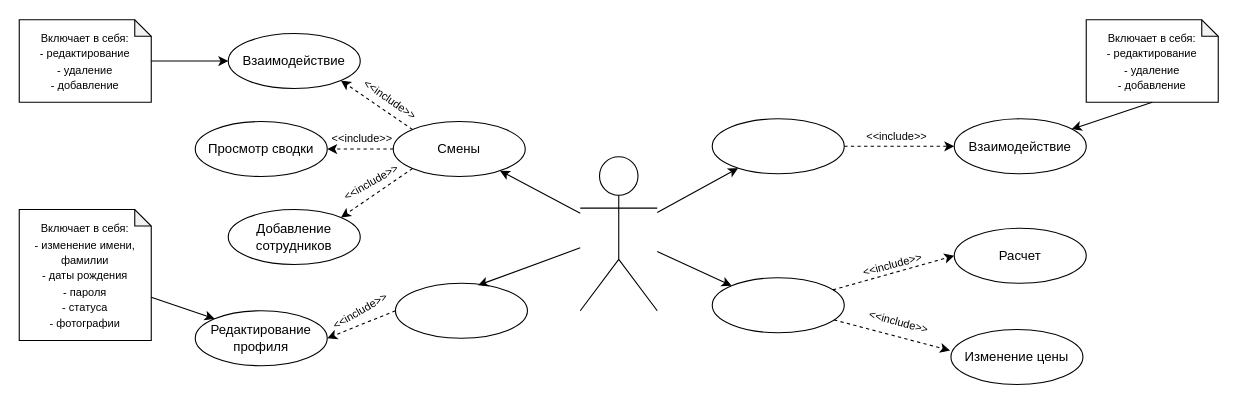
Some shapes in this 1238 by 404 pixel diagram are drawn without their labels. The centre of each missing label's shape, as x and y in pixels:
Калькулятор: the point at 777,305
Настройки: the point at 460,310
Продукция: the point at 777,146
Управляющий: the point at 618,233
